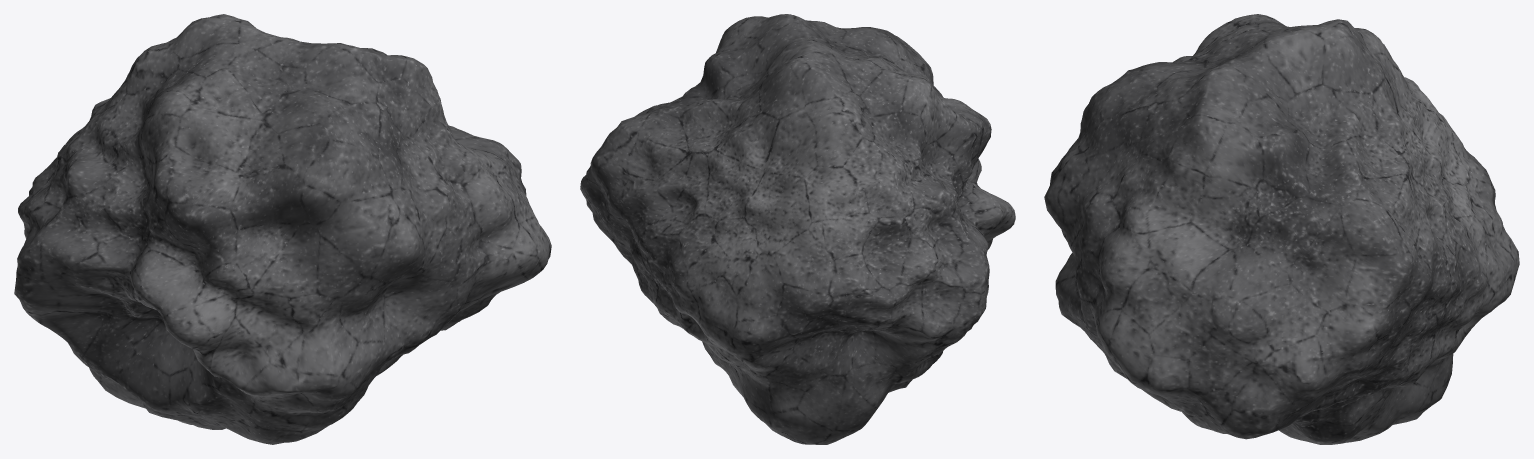
The model's file is asteroid-05.glb.
The picture shows the model from 3 angles, left to right: view 1: azimuth 30°, elevation 25°; view 2: azimuth 150°, elevation 25°; view 3: azimuth 270°, elevation 25°; orthographic projection. The views are drawn at different scales.
Visible parts, largest first — view 1: asteroid-05; view 2: asteroid-05; view 3: asteroid-05.
Boxes of the visible parts, x1,y1,x2,y2 form: asteroid-05: (14, 14, 551, 444); asteroid-05: (580, 14, 1015, 444); asteroid-05: (1044, 14, 1519, 444).
Bounding box in the file's own units: 2.55 × 2.13 × 2.22.
Materials: 1 (1 with a texture image).
